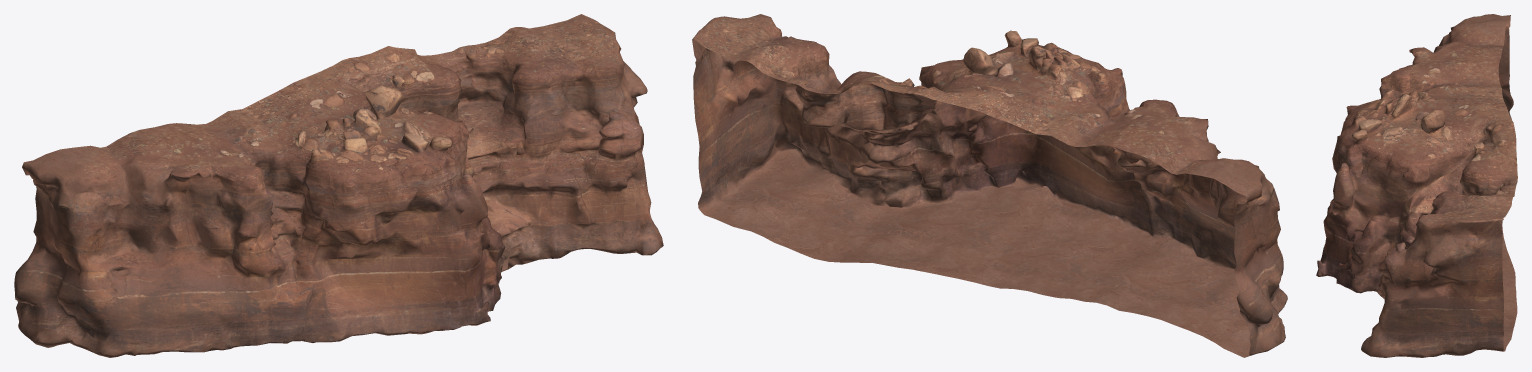
File: desert_western_cliff_layered_xl_01_veoneio_mid.glb
The picture shows the model from 3 angles, left to right: view 1: azimuth 30°, elevation 25°; view 2: azimuth 150°, elevation 25°; view 3: azimuth 270°, elevation 25°; orthographic projection. The views are drawn at different scales.
Parts seen in each view (by area): view 1: veoneio_LOD0_TIER2_000; view 2: veoneio_LOD0_TIER2_000; view 3: veoneio_LOD0_TIER2_000.
Boxes of the visible parts, x1,y1,x2,y2 form: veoneio_LOD0_TIER2_000: (14, 14, 663, 357); veoneio_LOD0_TIER2_000: (692, 14, 1287, 357); veoneio_LOD0_TIER2_000: (1316, 14, 1517, 357).
Size of the model in its own units: 14.83 by 4.75 by 5.44.
Materials: 1 (1 with a texture image).
